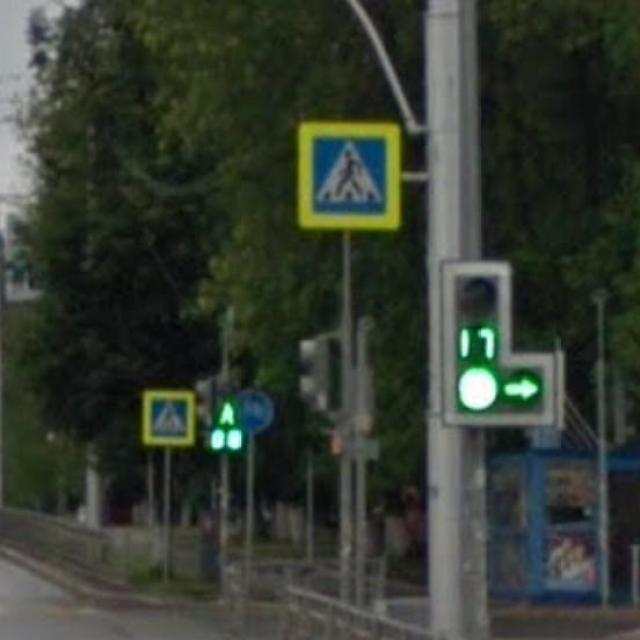crosswalk: (299, 123, 402, 228), (142, 390, 194, 446)
